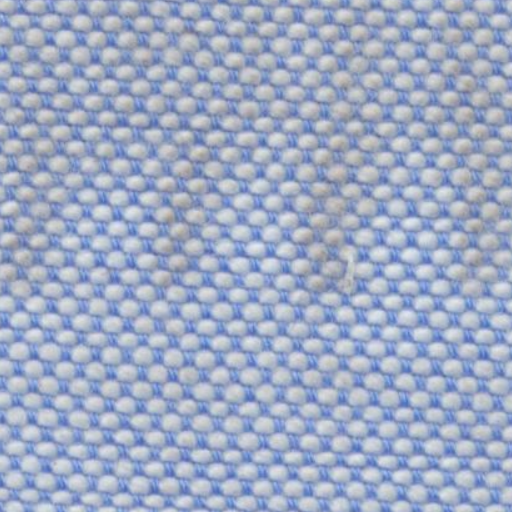WuZi: (4, 10, 497, 288)
